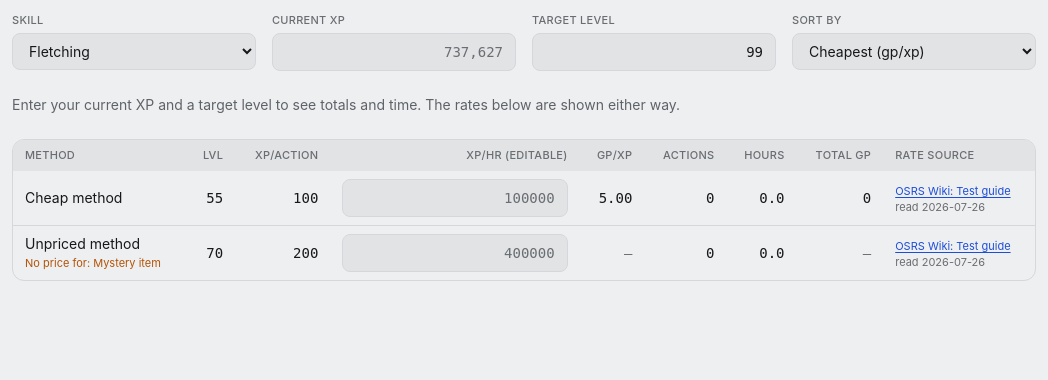
TrainingMethodComparator › offers a reset once a rate has been edited, and restores the authored value
The image size is (1048, 380).
Type "12034431" into the field labelled "Current XP" at (394, 52), box [272, 32, 516, 70]
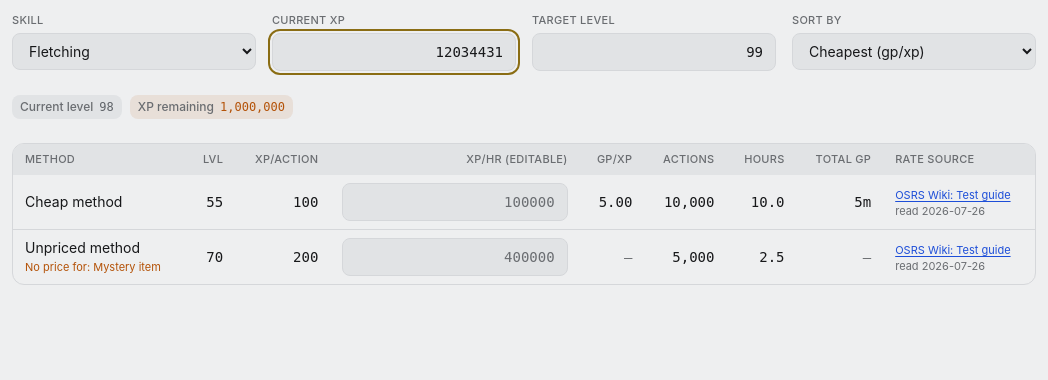
Type "250000" into the field named "XP per hour for Cheap method" at (455, 202), box [342, 183, 568, 221]
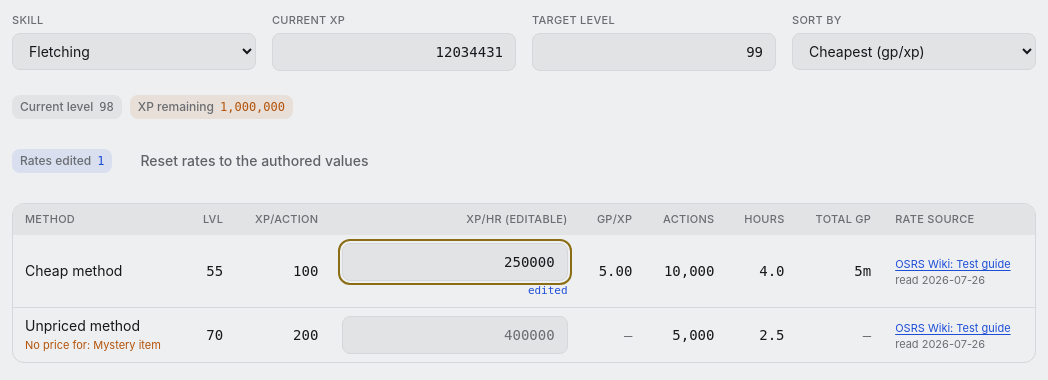
Click the button "Reset rates to the authored values" at (254, 160), box [124, 142, 385, 178]
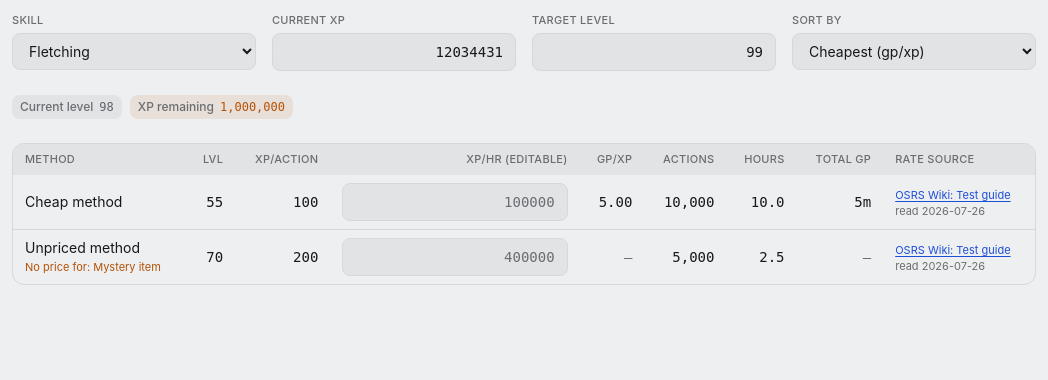
expect the text "10.0" is shown: met, box [726, 175, 797, 230]
